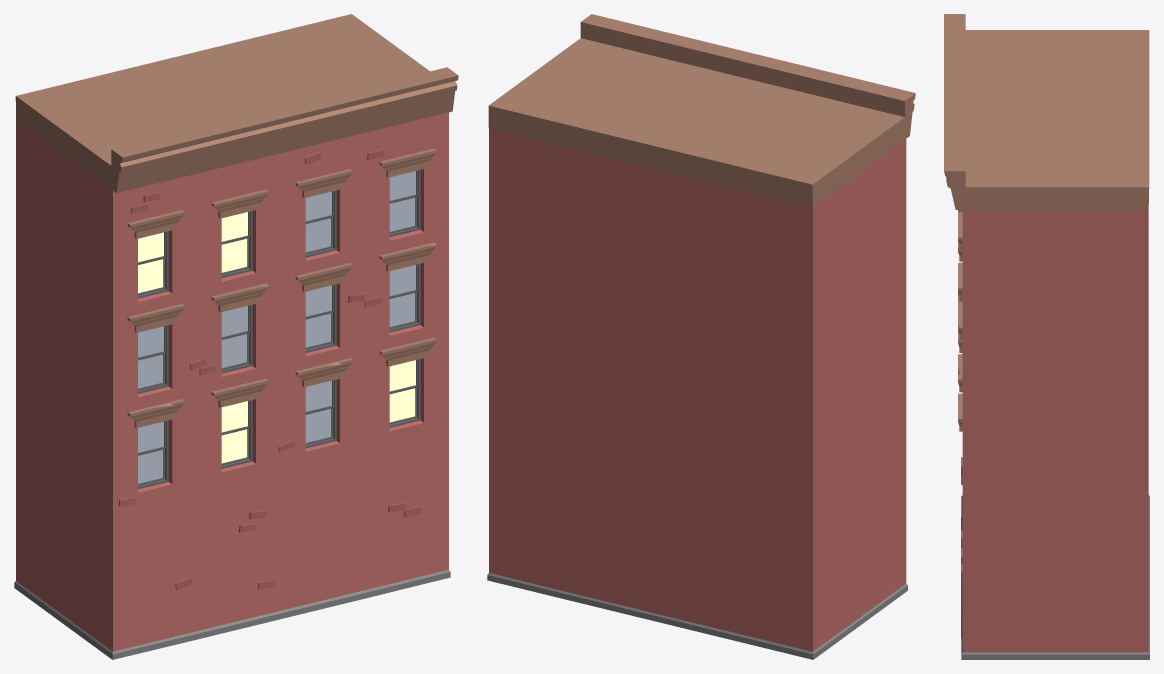
File: building_07.glb
3 views of the same model, side by side, from view 1: azimuth 30°, elevation 25°; view 2: azimuth 150°, elevation 25°; view 3: azimuth 270°, elevation 25° (orthographic). The views are drawn at different scales.
Visible parts, largest first — view 1: red_blank; view 2: red_blank; view 3: red_blank.
Boxes of the visible parts, box(x1,y1,x2,y2) form: red_blank: box(14, 14, 458, 659); red_blank: box(487, 14, 915, 659); red_blank: box(944, 14, 1149, 659).
Bounding box in the file's own units: 2.42 × 3.48 × 1.33.
